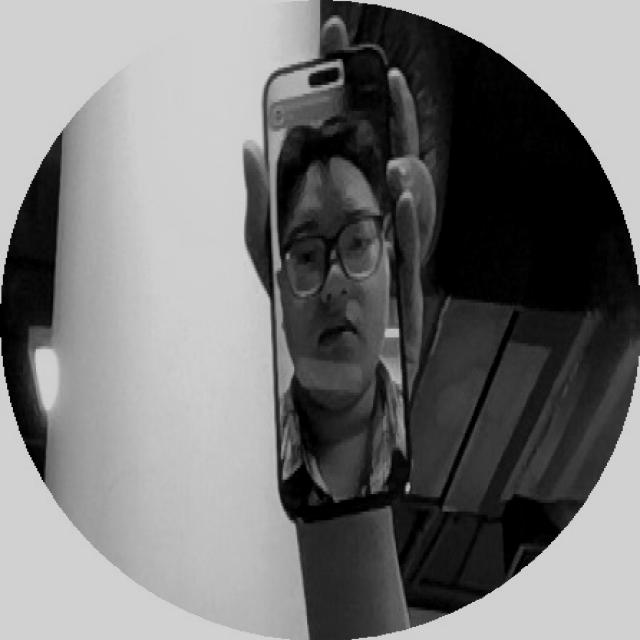fake: (209, 43, 476, 555), (246, 39, 433, 538)
